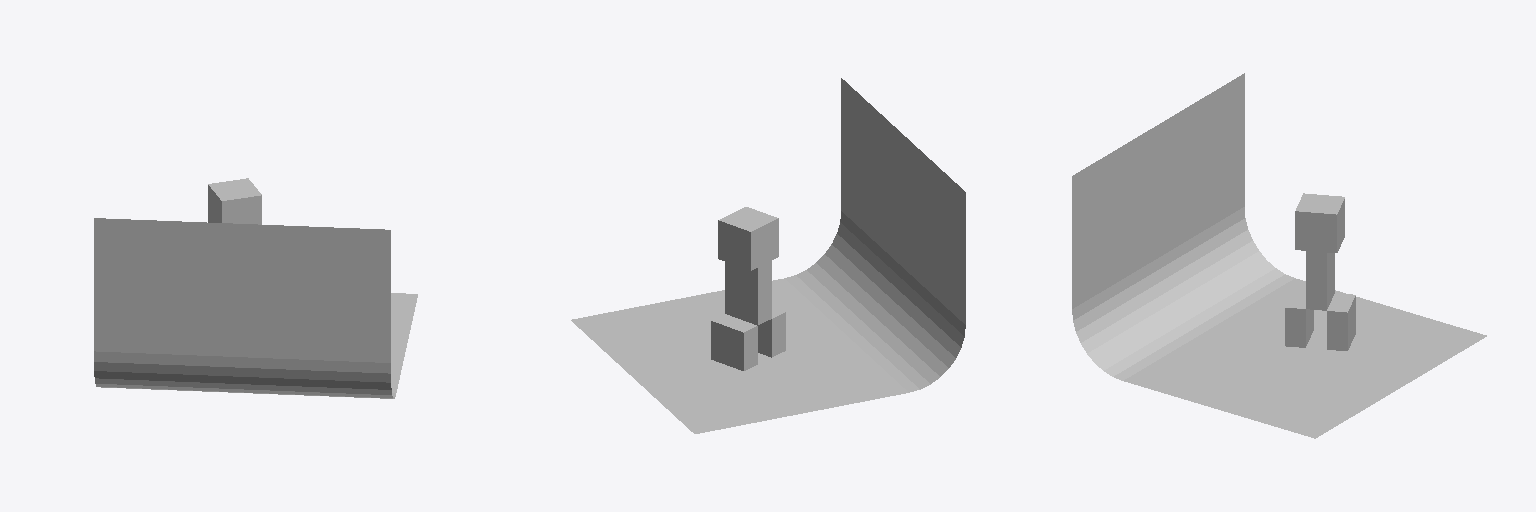
File: Creeper_Model.obj
The picture shows the model from 3 angles: view 1: azimuth 30°, elevation 25°; view 2: azimuth 150°, elevation 25°; view 3: azimuth 270°, elevation 25°; orthographic projection.
Parts seen in each view (by area): view 1: Plane, Creeper_Cube.005; view 2: Plane, Creeper_Cube.005; view 3: Plane, Creeper_Cube.005.
Boxes of the visible parts, <box> form: Plane: <box>94,218,417,398</box>; Creeper_Cube.005: <box>208,178,261,224</box>; Plane: <box>571,78,965,433</box>; Creeper_Cube.005: <box>711,207,785,370</box>; Plane: <box>1072,73,1486,438</box>; Creeper_Cube.005: <box>1285,193,1355,350</box>.
Size of the model in its own units: 19.4 by 9.77 by 19.4.